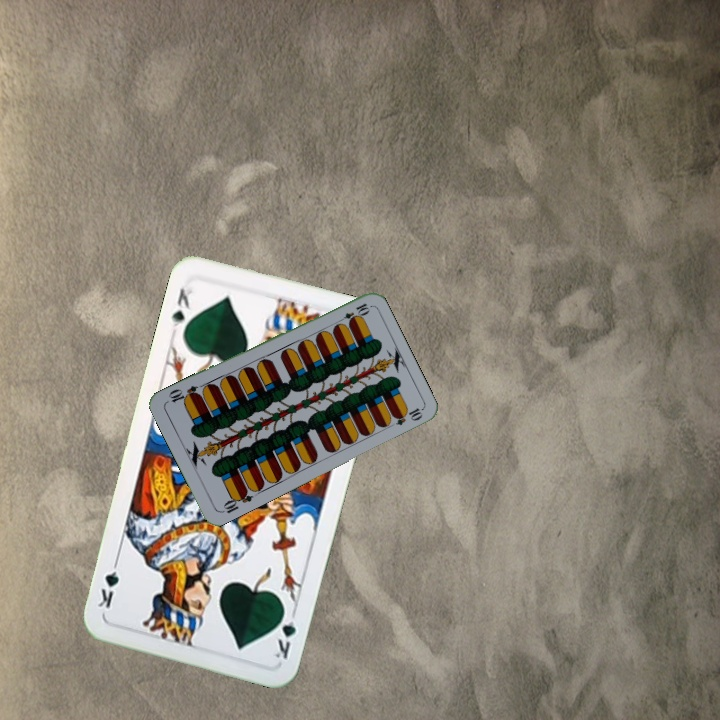E10: (217, 486, 255, 516), (333, 299, 372, 327)
GK: (271, 604, 299, 662), (167, 283, 195, 331)
